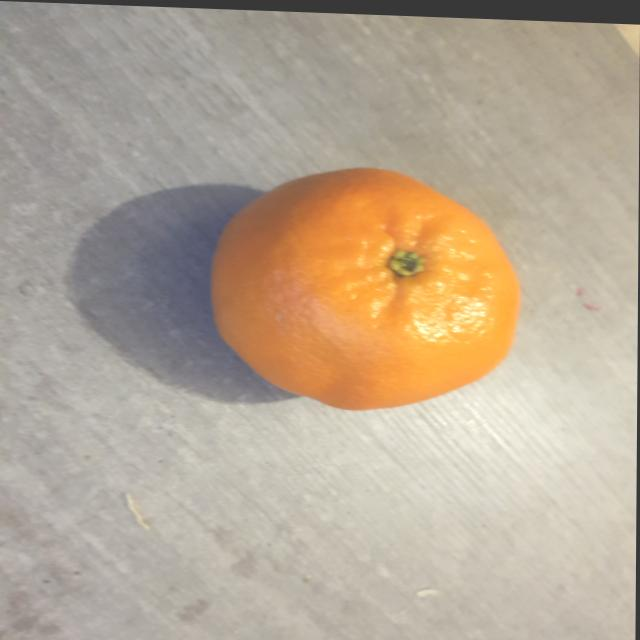Orange: (209, 163, 524, 408)
